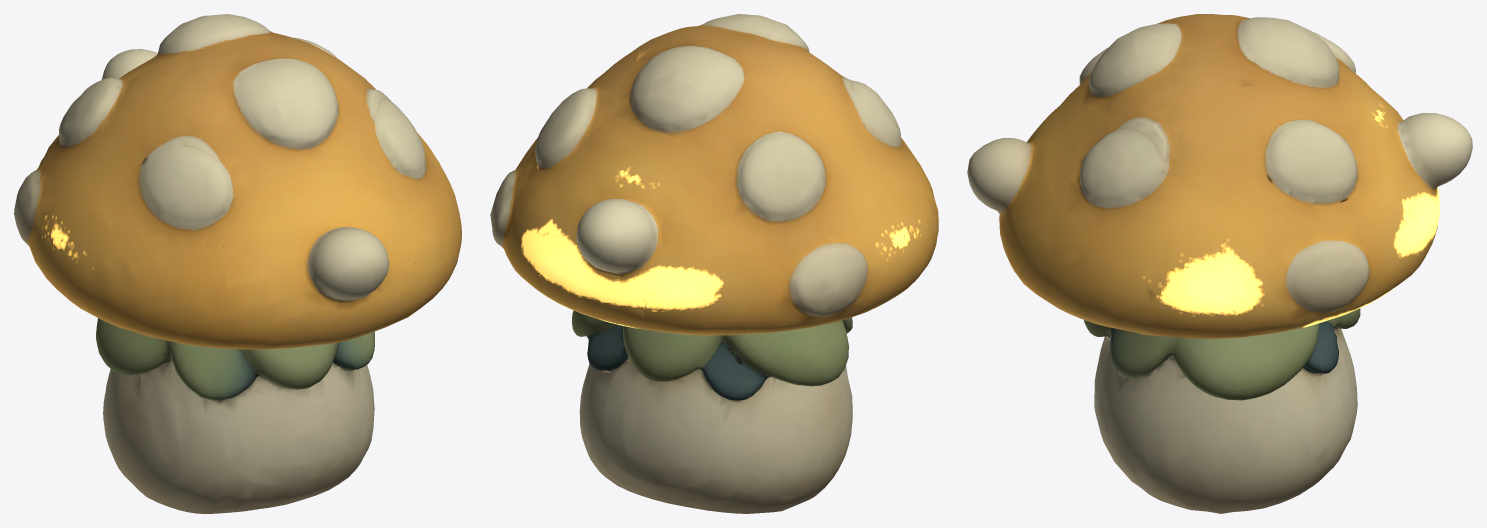
File: mushroom_lamp.glb
3 renders of one model, left to right at view 1: azimuth 30°, elevation 25°; view 2: azimuth 150°, elevation 25°; view 3: azimuth 270°, elevation 25°, orthographic.
Parts seen in each view (by area): view 1: mushroom_lamp; view 2: mushroom_lamp; view 3: mushroom_lamp.
Part boxes in pixels (x1,y1,x2,y2): mushroom_lamp: (14,14,461,513); mushroom_lamp: (490,14,938,513); mushroom_lamp: (967,14,1472,513).
Bounding box in the file's own units: 0.7746 × 0.8671 × 0.8876.
Materials: 1 (1 with a texture image).
